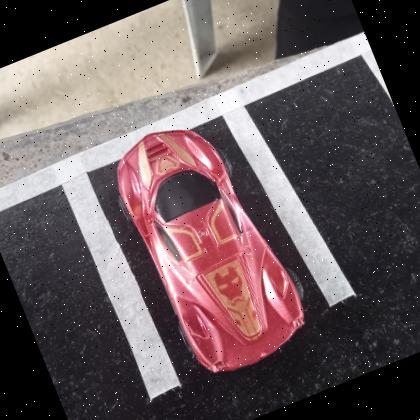Car: (117, 130, 306, 374)
